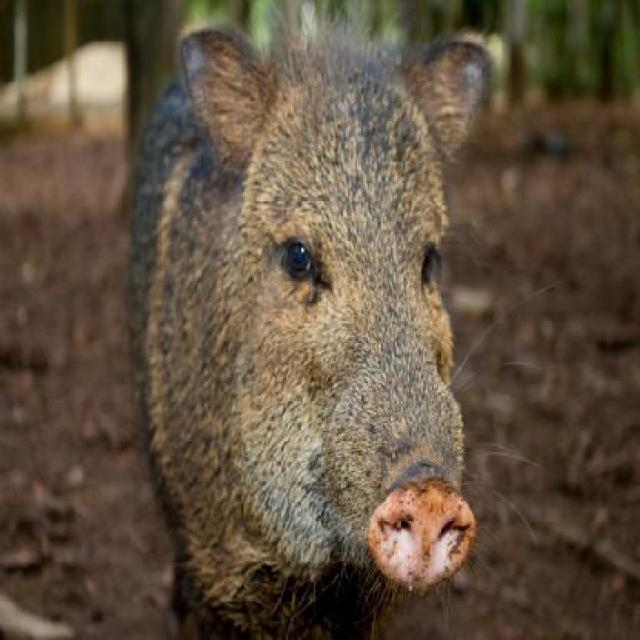pig: (132, 0, 497, 639)
